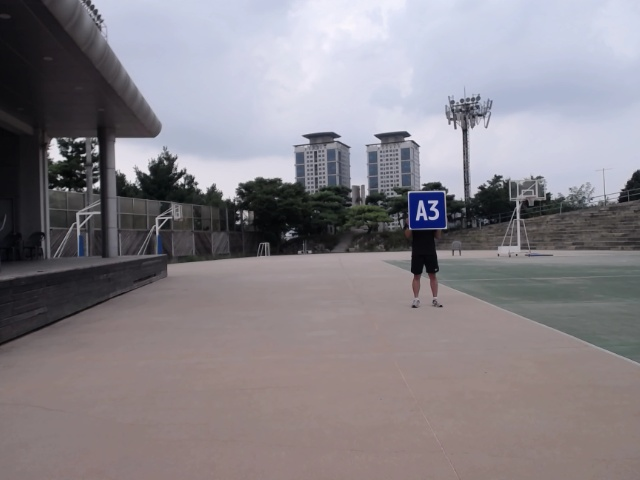delivery_a3: (407, 191, 447, 229)
